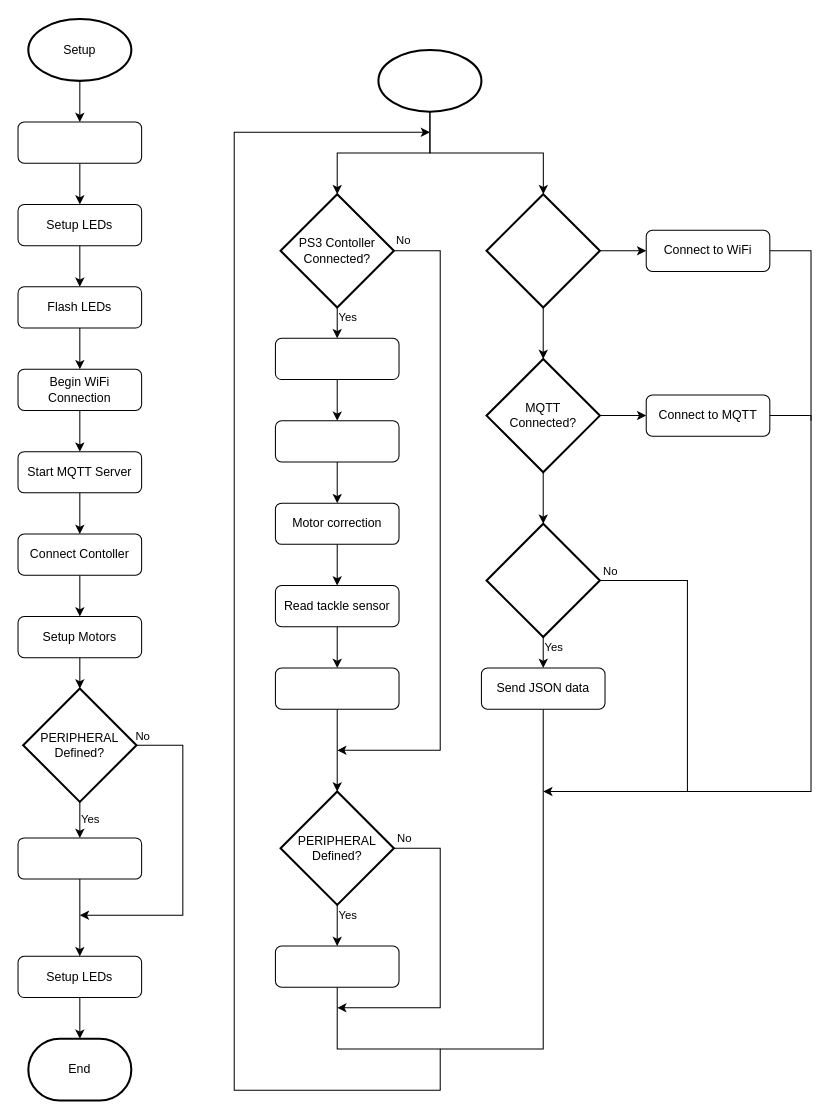
Some shapes in this 830 by 1119 pixel diagram are drawn without their labels. The centre of each missing label's shape, as x and y in pixels:
"200ms Since Last JSON Send?" goes at (542,580).
"Call peripheral" goes at (336,966).
"Drive robot" goes at (336,688).
"Loop" goes at (429,80).
"Read joystick input" goes at (336,358).
"Set handicap/kidsmode" goes at (336,441).
"Setup Peripherals" goes at (79,858).
"Start Serial Port" goes at (79,142).
"WiFi Connected?" goes at (542,250).
